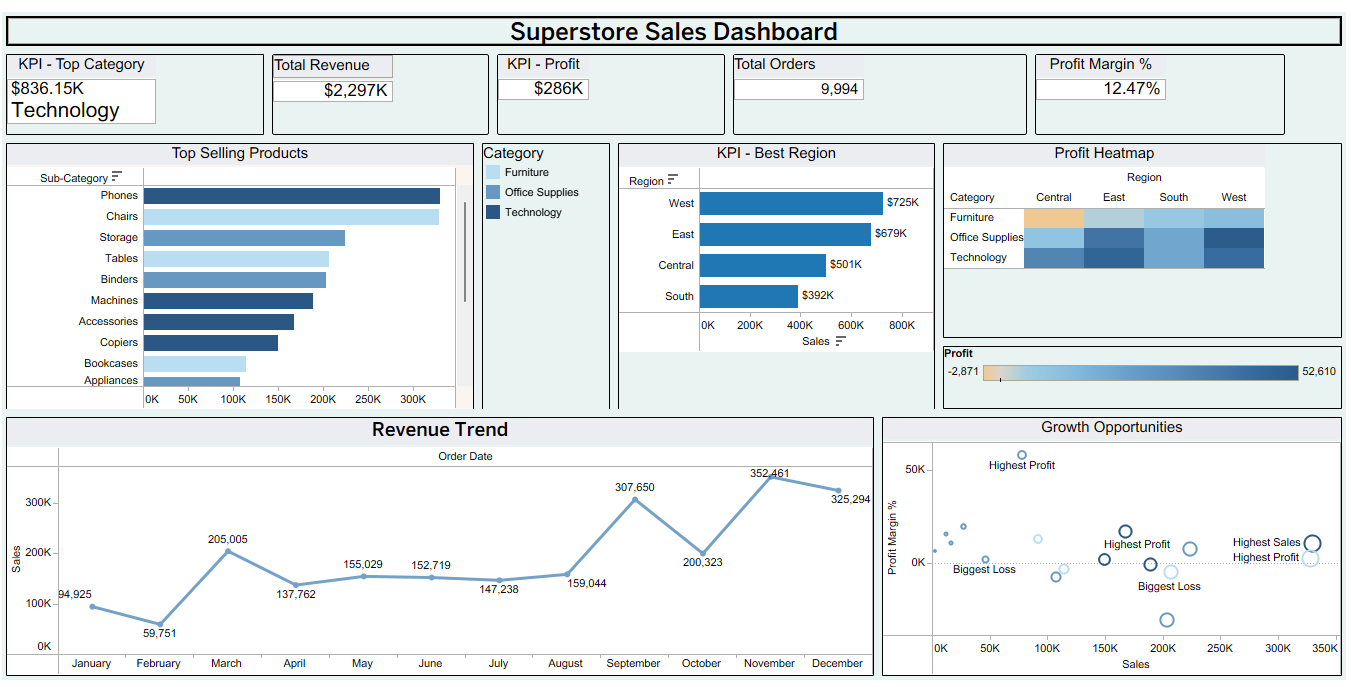

What the dashboard file says about the page in this screenshot:
{"tool":"tableau","page":{"name":"Dashboard 2","canvas":[1000,1000],"units":"permille","ordinal":1},"visuals":[{"type":"title","box":[6.9,13.7,986.2,65.1]},{"type":"worksheet","title":"KPI - Top Category","mark":"Text","box":[6.9,78.8,195.5,127.6]},{"type":"worksheet","title":"Total Revenue","mark":"Automatic","box":[202.4,78.8,194,127.6]},{"type":"worksheet","title":"KPI - Profit","mark":"Automatic","box":[396.4,78.8,198.9,127.6]},{"type":"worksheet","title":"Total Orders","mark":"Text","box":[595.3,78.8,198.9,127.6]},{"type":"worksheet","title":"Profit Margin %","mark":"Text","box":[794.2,78.8,198.9,127.6]},{"type":"worksheet","title":"Top Selling Products","mark":"Bar","rows":["Sub-Category"],"cols":["Sales"],"box":[6.9,206.3,349,395.5]},{"type":"legend","title":"Top Selling Products","param":"[federated.1oas0a40046nhc1blsf1w125hzu9].[none:Category:nk]","box":[355.9,206.3,100,395.5]},{"type":"worksheet","title":"KPI - Best Region","mark":"Automatic","rows":["Region"],"cols":["Sales"],"box":[455.9,206.3,238.7,395.5]},{"type":"worksheet","title":"Profit Heatmap","mark":"Square","rows":["Category"],"cols":["Region"],"box":[694.6,206.3,298.5,292.6]},{"type":"legend","title":"Profit Heatmap","param":"[federated.1oas0a40046nhc1blsf1w125hzu9].[sum:Profit:qk]","box":[694.6,498.9,298.5,102.9]},{"type":"worksheet","title":"Revenue Trend","mark":"Automatic","rows":["Sales"],"cols":["Order Date"],"box":[6.9,601.9,643,384.4]},{"type":"worksheet","title":"Growth Opportunities","mark":"Automatic","rows":["Profit Margin %"],"cols":["Sales"],"box":[649.9,601.9,343.2,384.4]}]}

Visuals, with their boxes on the dashboard's canvas, which has no fixed pixel size, in thousandths of its width and height (x1, y1, x2, y2). These are canvas units, not pixel positions in the 1351x687 screenshot, which may show the page scaled, cropped or inside an application window:
title: (left=7, top=14, right=993, bottom=79)
"KPI - Top Category" worksheet (Text marks): (left=7, top=79, right=202, bottom=206)
"Total Revenue" worksheet: (left=202, top=79, right=396, bottom=206)
"KPI - Profit" worksheet: (left=396, top=79, right=595, bottom=206)
"Total Orders" worksheet (Text marks): (left=595, top=79, right=794, bottom=206)
"Profit Margin %" worksheet (Text marks): (left=794, top=79, right=993, bottom=206)
"Top Selling Products" worksheet (Bar marks): (left=7, top=206, right=356, bottom=602)
"Top Selling Products" legend: (left=356, top=206, right=456, bottom=602)
"KPI - Best Region" worksheet: (left=456, top=206, right=695, bottom=602)
"Profit Heatmap" worksheet (Square marks): (left=695, top=206, right=993, bottom=499)
"Profit Heatmap" legend: (left=695, top=499, right=993, bottom=602)
"Revenue Trend" worksheet: (left=7, top=602, right=650, bottom=986)
"Growth Opportunities" worksheet: (left=650, top=602, right=993, bottom=986)
